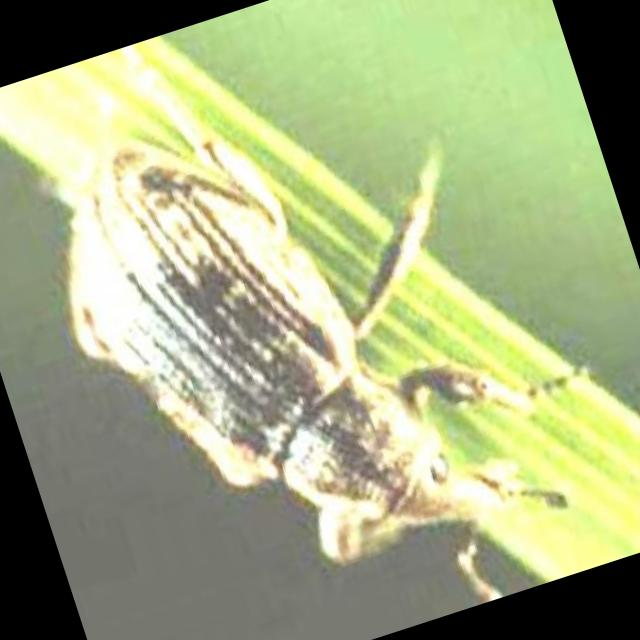rice-bug: (11, 45, 538, 632)
